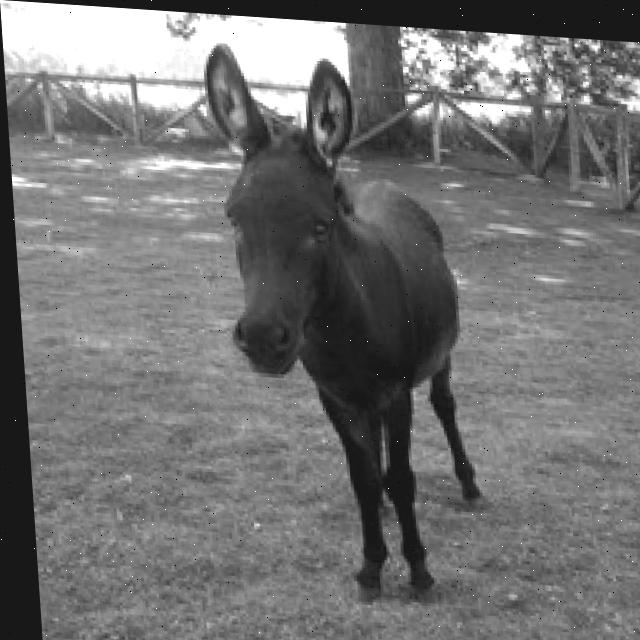Donkey: (199, 39, 490, 610)
